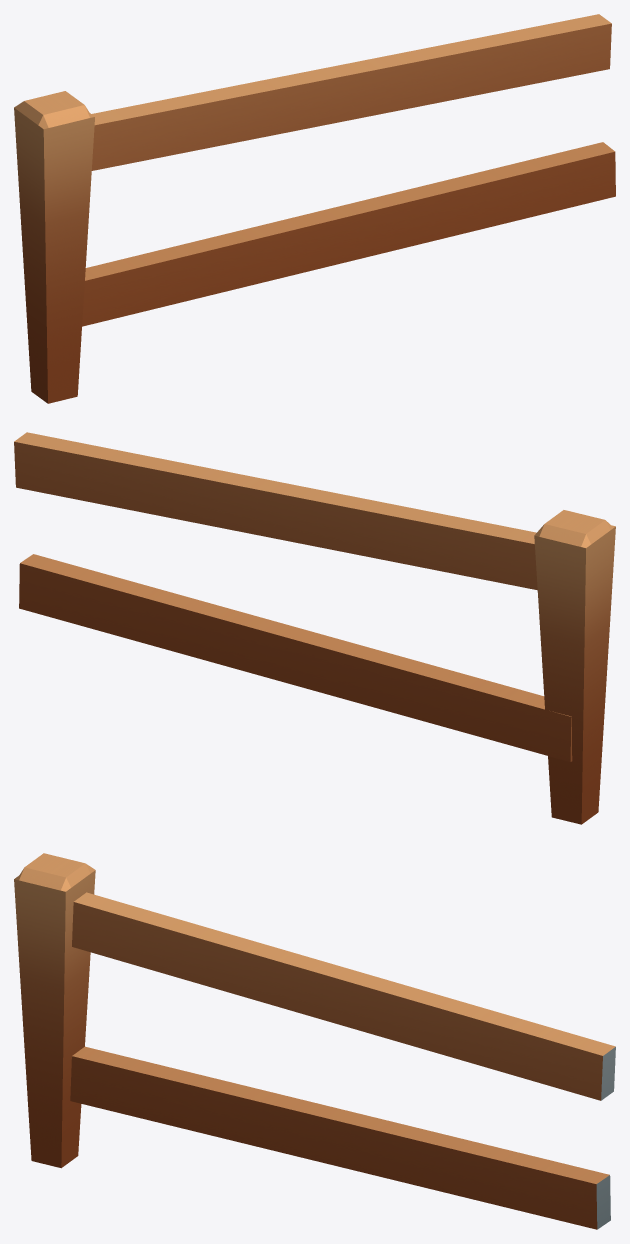
File: Cerca.fbx
3 renders of one model, top to bottom at view 1: azimuth 30°, elevation 25°; view 2: azimuth 150°, elevation 25°; view 3: azimuth 330°, elevation 25°, orthographic.
Visible parts, largest first — view 1: Fence; view 2: Fence; view 3: Fence.
Part boxes in pixels (<box>): Fence: <box>14,14,615,403</box>; Fence: <box>14,432,615,824</box>; Fence: <box>14,853,615,1229</box>.
Size of the model in its own units: 494 by 238 by 44.11.
